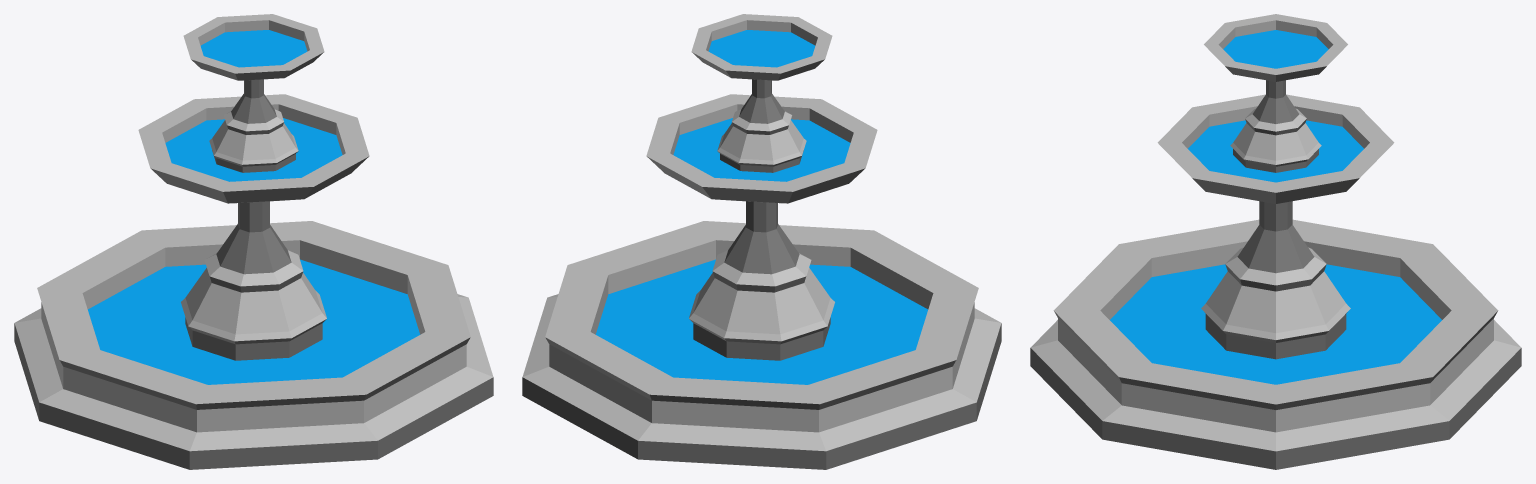
Rendered from Fountain.FBX.
3 renders of one model, left to right at view 1: azimuth 30°, elevation 25°; view 2: azimuth 150°, elevation 25°; view 3: azimuth 270°, elevation 25°, orthographic.
Visible parts, largest first — view 1: Fountain, Fountain2, Water1, Fountain3, Water2, Water3; view 2: Fountain, Fountain2, Water1, Fountain3, Water2, Water3; view 3: Fountain, Fountain2, Water1, Fountain3, Water2, Water3.
Part boxes in pixels (x1,y1,x2,y2): Fountain: (14, 221, 493, 469); Fountain2: (138, 94, 369, 360); Water1: (88, 259, 420, 384); Fountain3: (183, 14, 324, 172); Water2: (165, 118, 342, 181); Water3: (200, 30, 307, 67); Fountain: (522, 221, 1001, 469); Fountain2: (646, 94, 877, 360); Water1: (595, 259, 927, 384); Fountain3: (691, 14, 832, 172); Water2: (673, 118, 850, 181); Water3: (708, 30, 815, 67); Fountain: (1030, 219, 1521, 469); Fountain2: (1157, 94, 1394, 359); Water1: (1110, 264, 1441, 384); Fountain3: (1204, 14, 1347, 172); Water2: (1188, 120, 1363, 182); Water3: (1223, 30, 1328, 68).
Size of the model in its own units: 472 by 341 by 472.
1 material, 1 textured.
